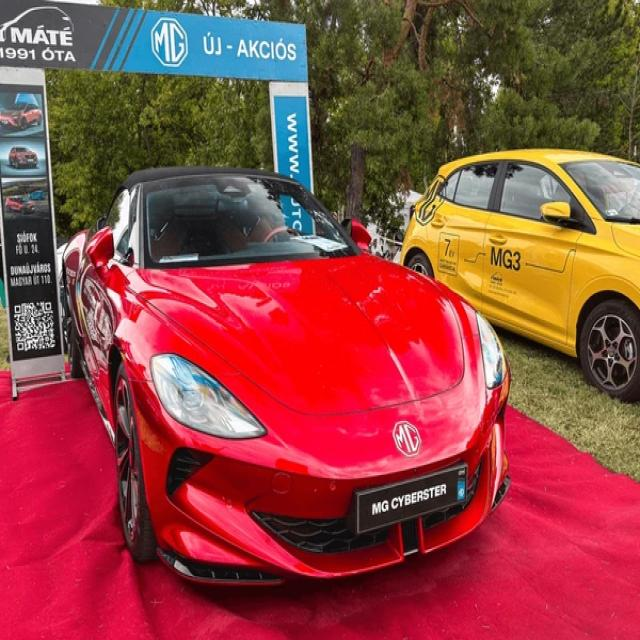mg: (391, 417, 420, 458)
